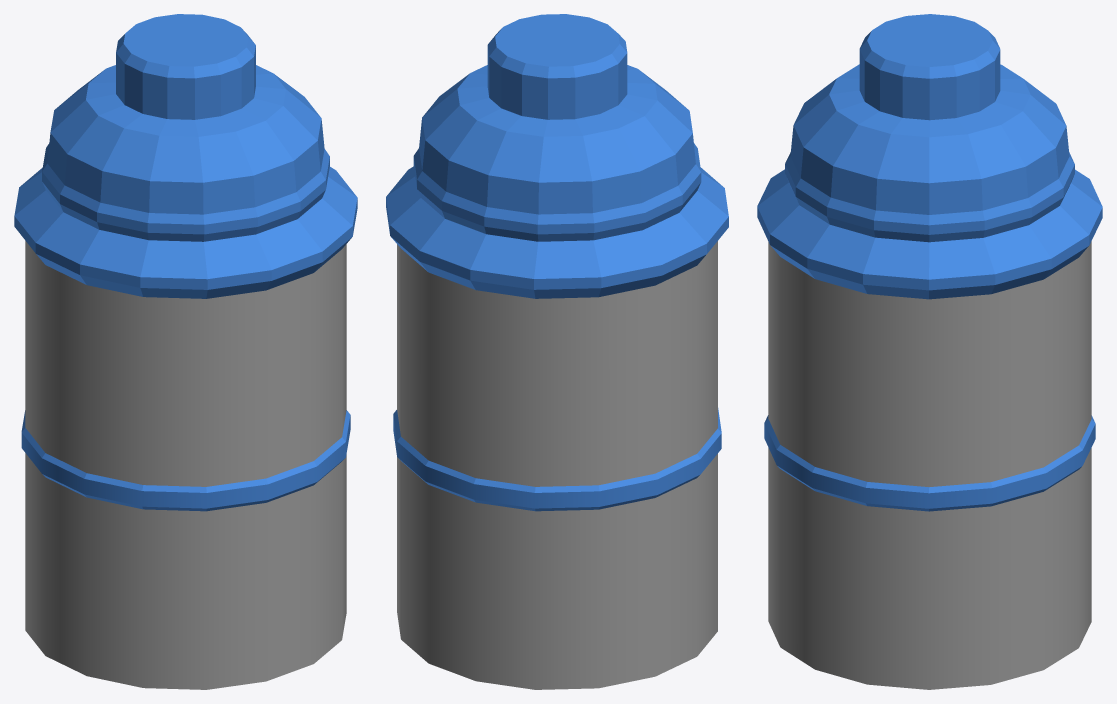
Rendered from WaterSilo.fbx.
The picture shows the model from 3 angles, left to right: view 1: azimuth 30°, elevation 25°; view 2: azimuth 150°, elevation 25°; view 3: azimuth 270°, elevation 25°; orthographic projection.
Visible parts, largest first — view 1: WaterSilo; view 2: WaterSilo; view 3: WaterSilo.
Part boxes in pixels (<box>): WaterSilo: <box>14,14,357,689</box>; WaterSilo: <box>386,14,728,689</box>; WaterSilo: <box>757,14,1102,689</box>.
Size of the model in its own units: 412 by 765 by 412.
